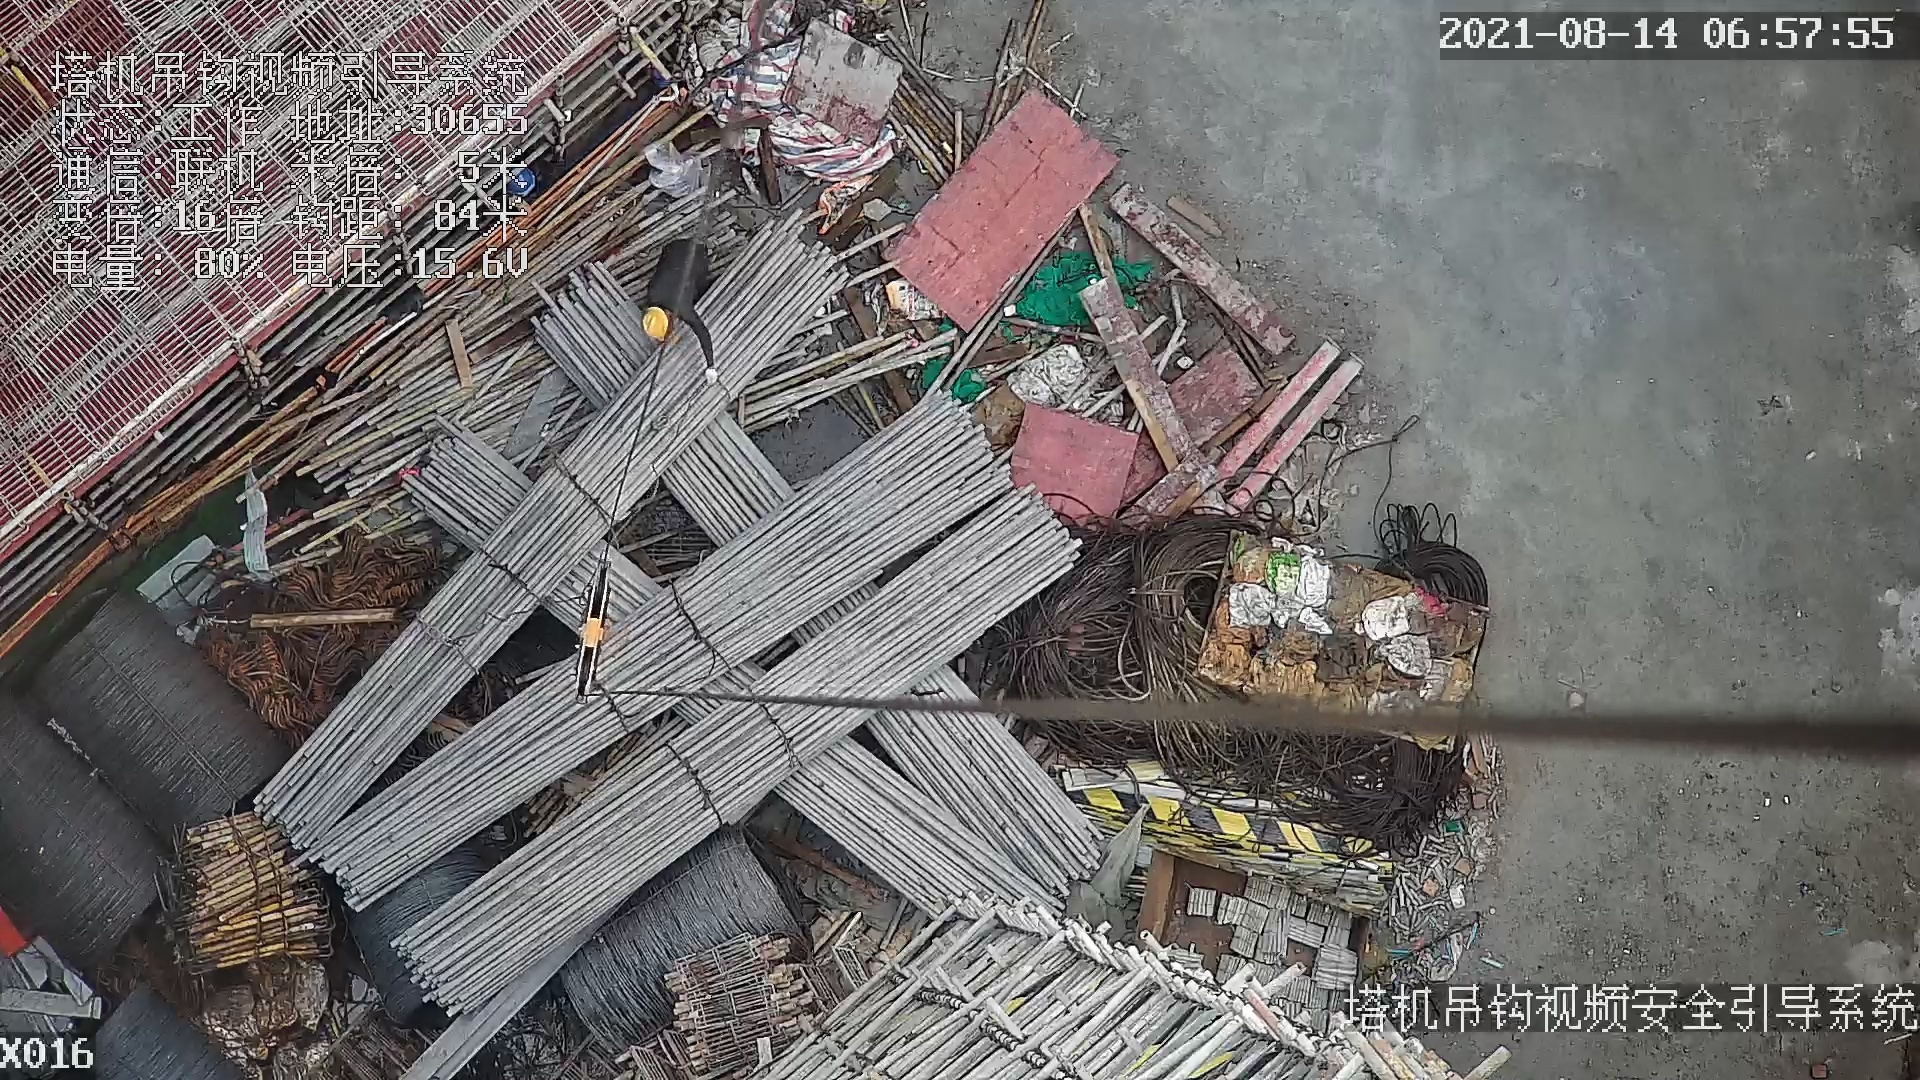helmet: (641, 307, 668, 341)
hook: (564, 550, 617, 706)
person: (632, 233, 726, 389)
rebar: (246, 214, 855, 850), (304, 388, 1015, 915), (388, 487, 1081, 1018), (775, 735, 1070, 919), (866, 666, 1093, 885)
scaffold: (155, 811, 344, 976)
